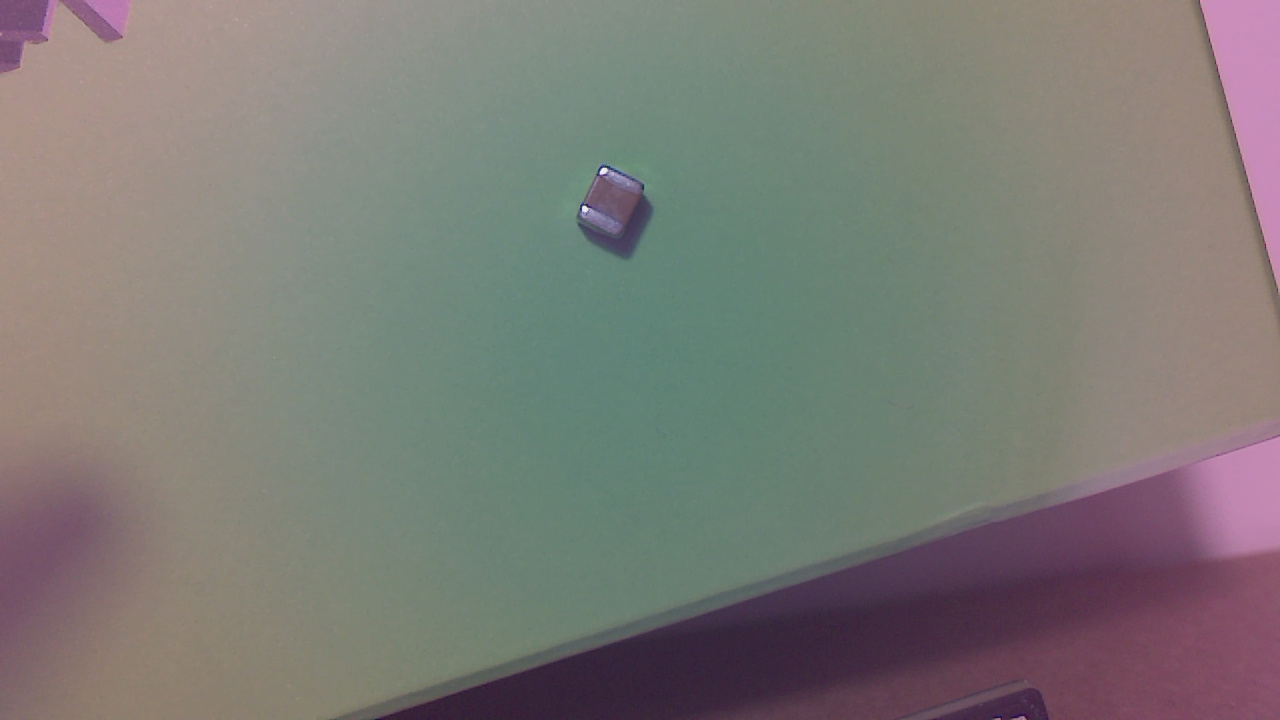Condensator: (580, 170, 653, 251)
